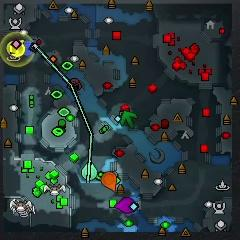p1: (23, 39, 35, 57)
p2: (82, 160, 97, 181)
p3: (114, 196, 136, 214)
p4: (6, 40, 28, 57)
p5: (102, 171, 117, 192)
x4: (120, 111, 137, 128)
